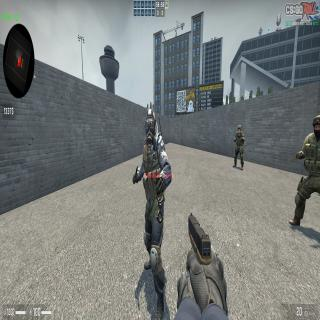CT-Body: (132, 138, 172, 320), (288, 132, 320, 227), (232, 132, 245, 170)
CT-Head: (144, 108, 156, 146), (312, 115, 320, 138), (238, 125, 242, 134)
